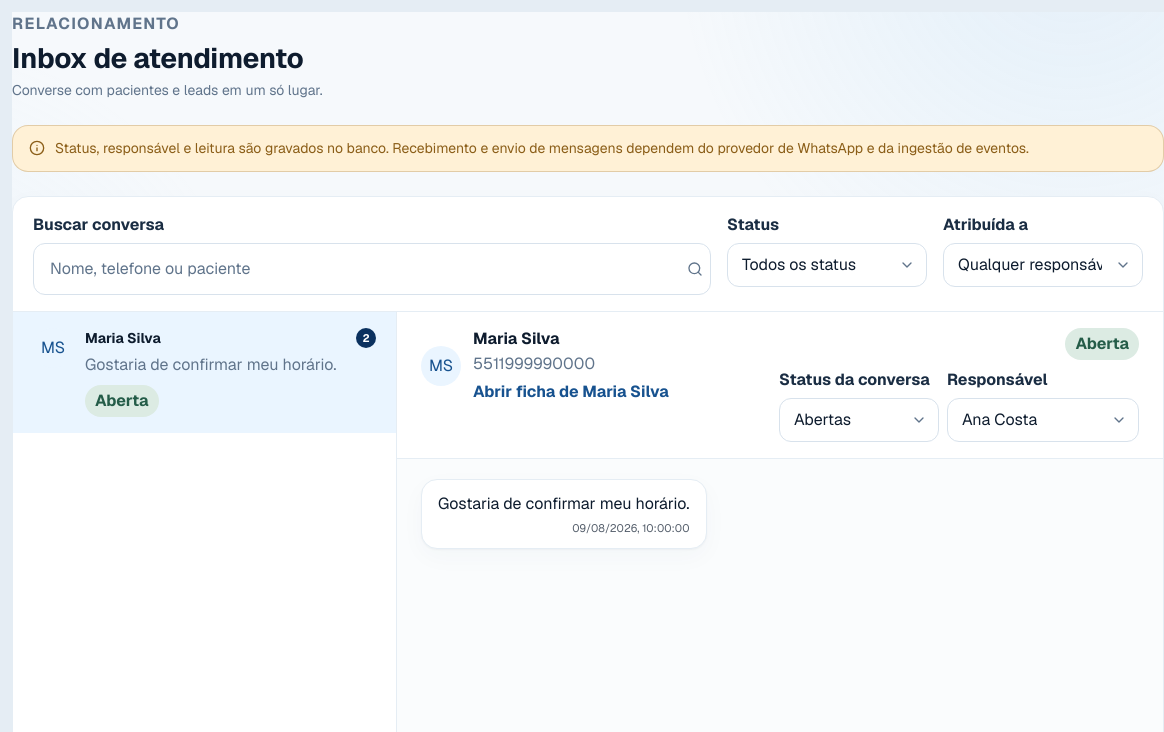
Test case: atender a conversa › a recusa do banco vira alerta, e não silêncio
Select "Aguardando" in the dropdown labelled "Status da conversa" at (859, 420), box top-left (779, 398), bottom-right (939, 442)
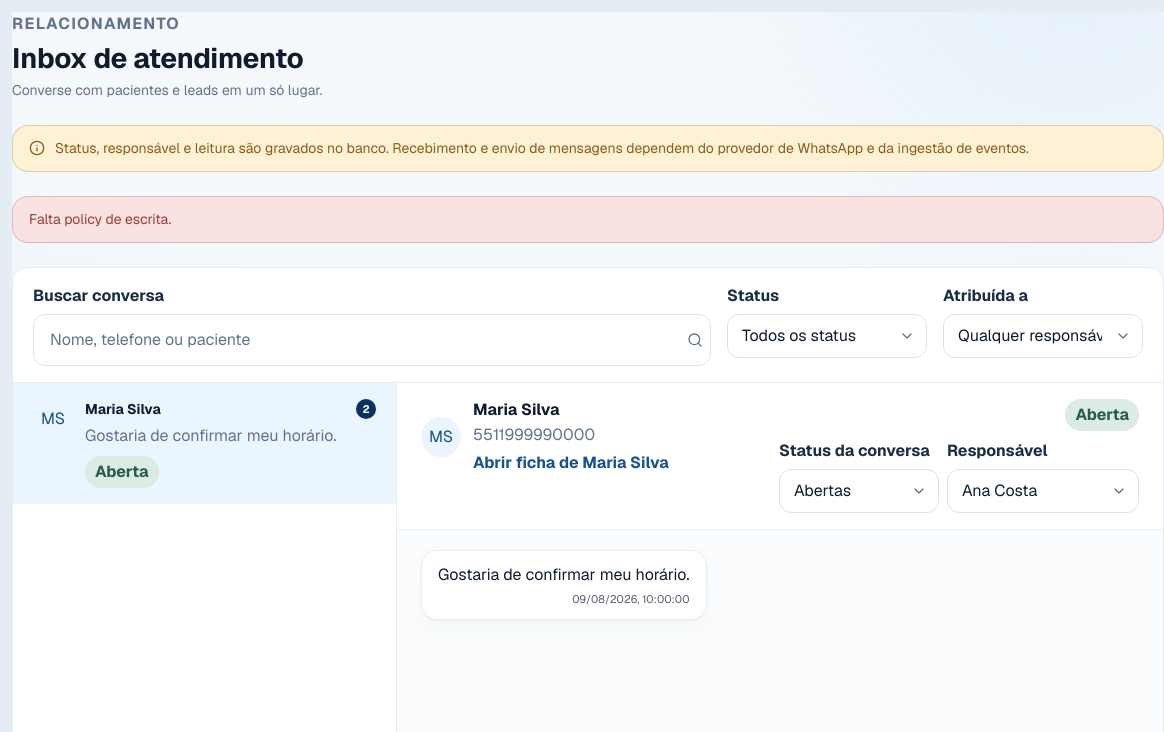
Check: the message reads "Falta policy de escrita.", box top-left (29, 210), bottom-right (171, 228)
